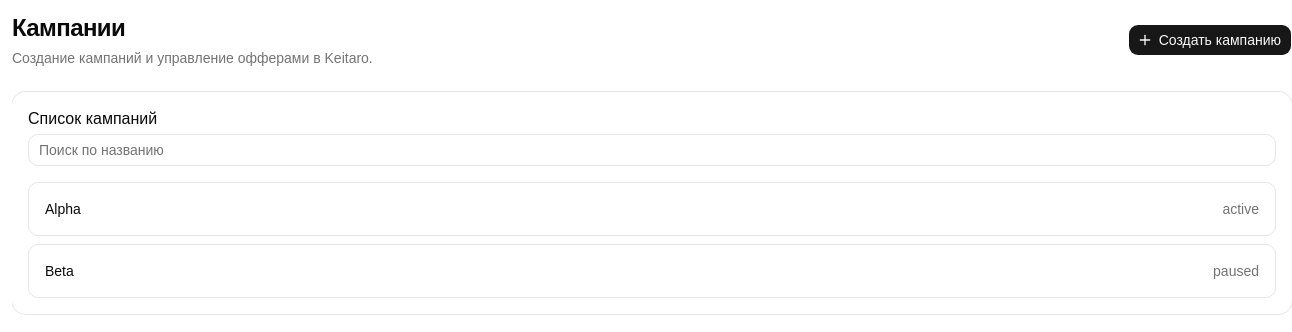
it: CampaignsListPage › shows an empty state for unmatched names
Expected: the text "Alpha" is shown, top-left (45, 199), bottom-right (81, 219)
Type "missing" into the field named "Поиск кампаний" at (652, 150), box top-left (28, 134), bottom-right (1276, 166)
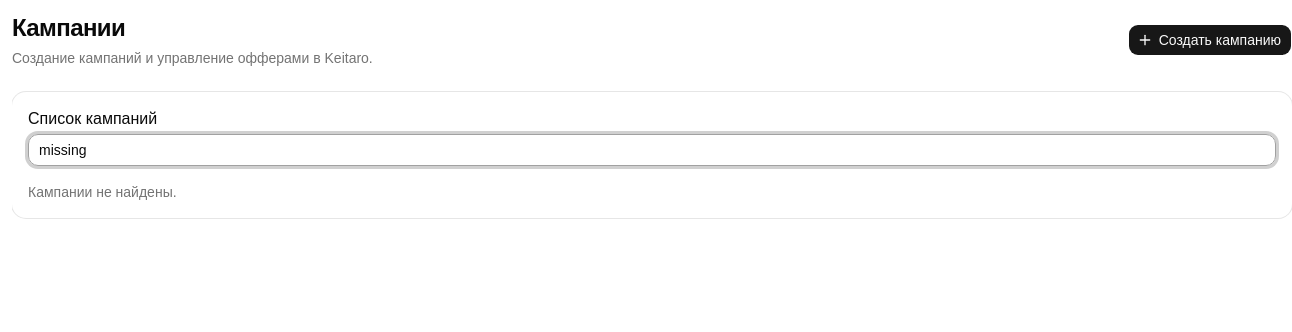
Expected: the text "Кампании не найдены." is shown, top-left (28, 184), bottom-right (177, 200)
Expected: the link "Alpha" is gone
Expected: the link "Beta" is gone
